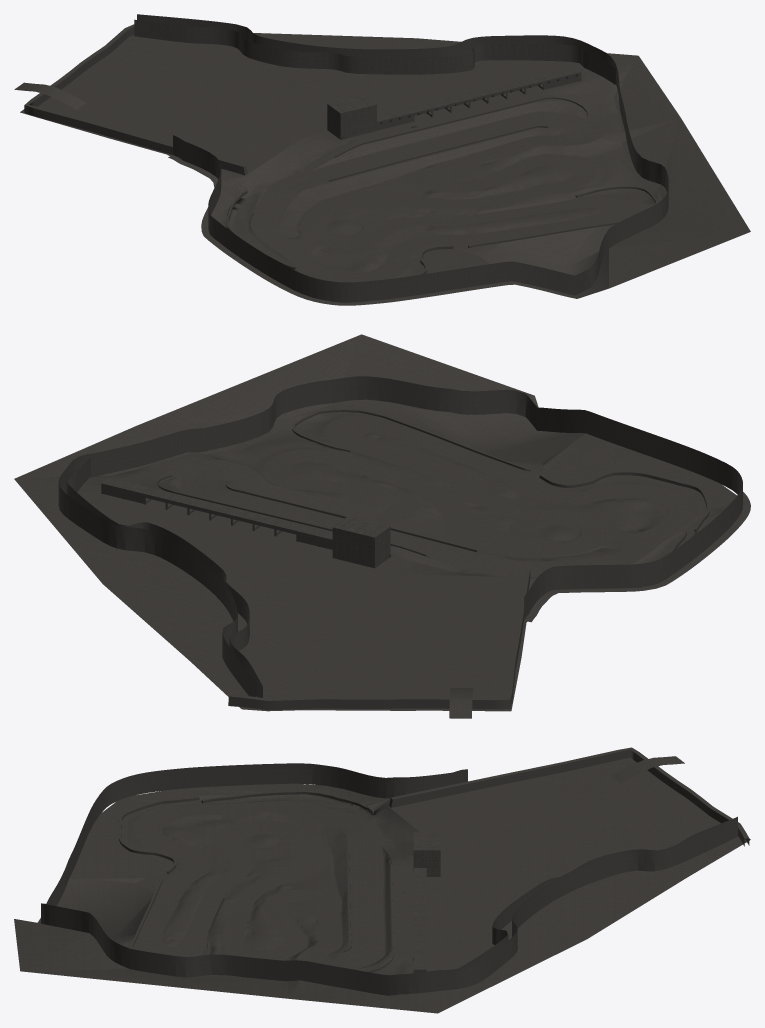
Rendered from island.glb.
The picture shows the model from 3 angles, top to bottom: view 1: azimuth 30°, elevation 25°; view 2: azimuth 150°, elevation 25°; view 3: azimuth 270°, elevation 25°; orthographic projection. The views are drawn at different scales.
Parts seen in each view (by area): view 1: island; view 2: island; view 3: island.
Part boxes in pixels (bbox=[...]): island: bbox=[14, 14, 750, 305]; island: bbox=[14, 334, 750, 718]; island: bbox=[14, 747, 750, 1013].
Size of the model in its own units: 296 by 36.09 by 355.
1 material, 1 textured.
